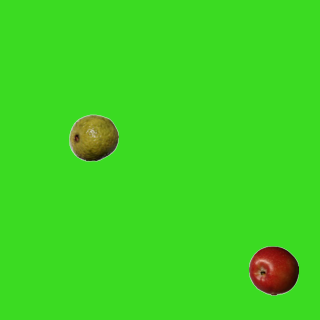Apple Braeburn: (248, 245, 298, 295)
Guava: (68, 112, 118, 162)
